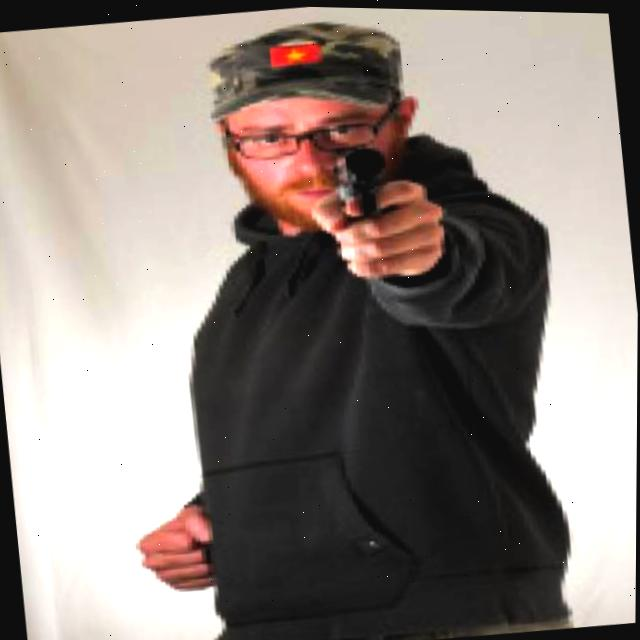pistol: (255, 132, 456, 317)
